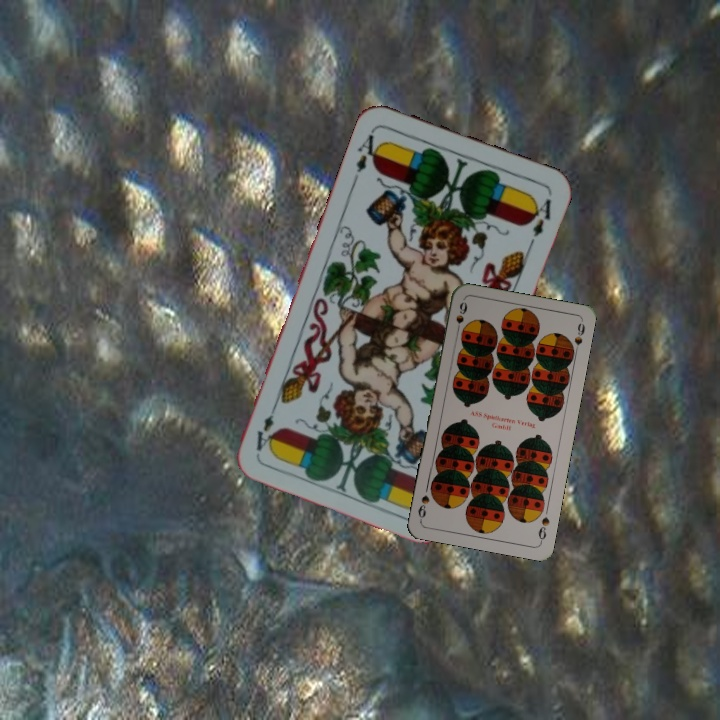EA: (352, 126, 385, 175)
S9: (452, 298, 470, 338), (534, 512, 552, 545)
